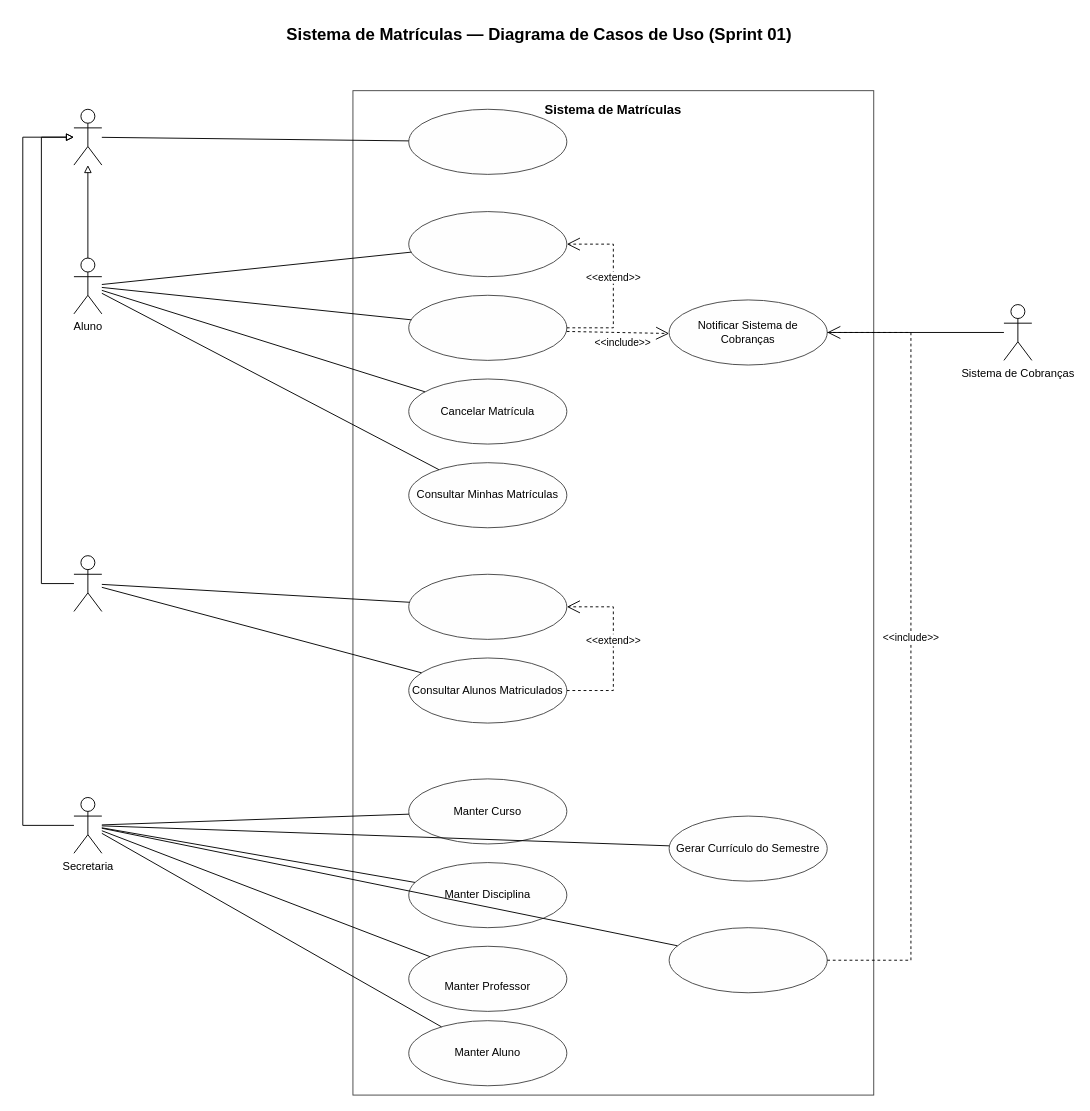
Some shapes in this 1090 by 1111 pixel diagram are drawn without their labels. Here are the shapes that lost their labels. From the top down, the centre of each, then its label:
At pixel 87 136: "Usuário".
At pixel 487 141: "Autenticar Usuário".
At pixel 487 244: "Consultar Disciplinas Disponíveis".
At pixel 487 327: "Realizar Matrícula".
At pixel 87 583: "Professor".
At pixel 487 606: "Consultar Disciplinas Ministradas".
At pixel 747 960: "Encerrar Período de Matrículas".
